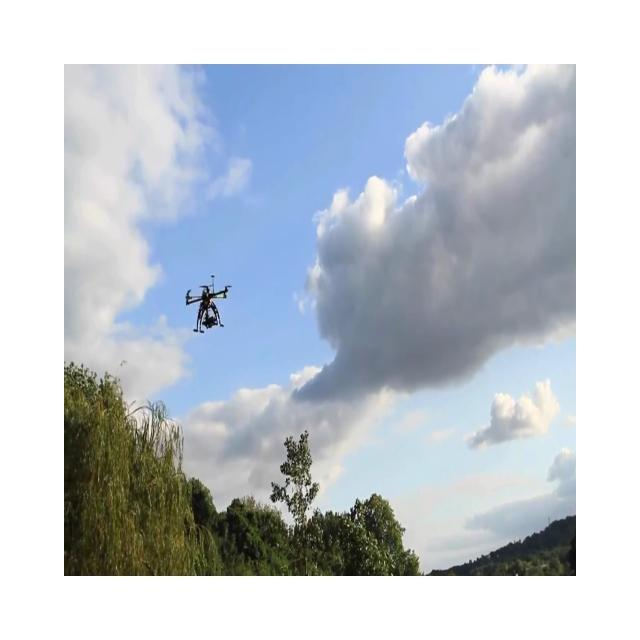drone: (185, 274, 232, 333)
